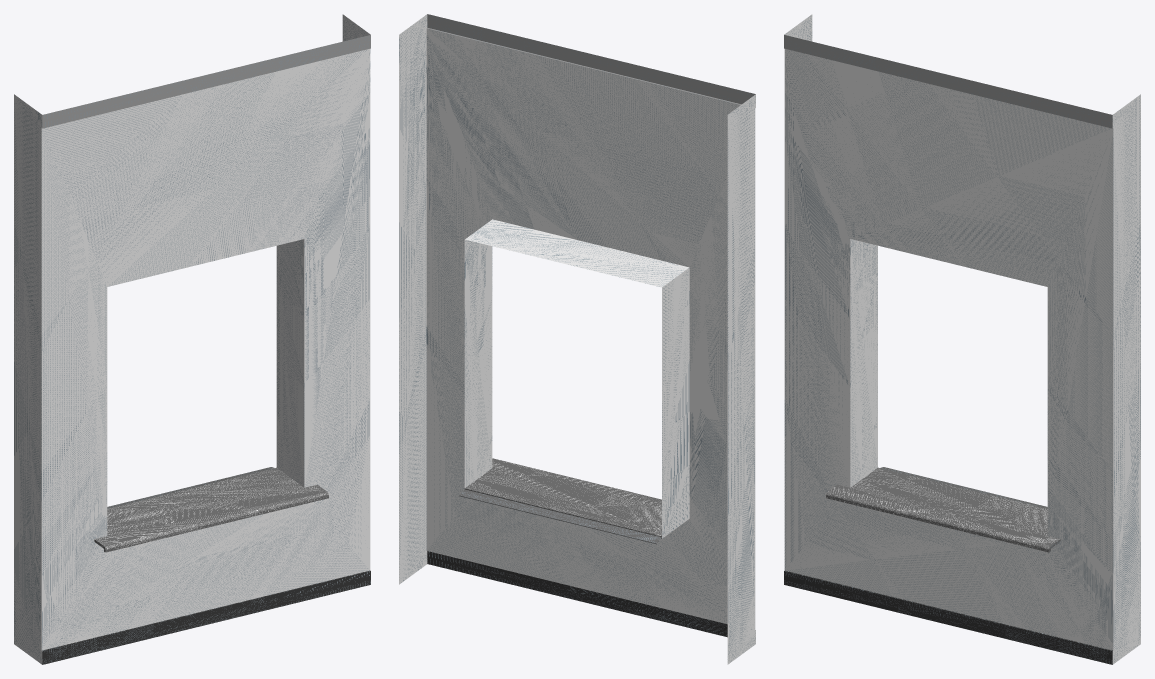
File: WindowBlock_os_plinth_[250x400]_150x181x[080].dae
The picture shows the model from 3 angles, left to right: view 1: azimuth 30°, elevation 25°; view 2: azimuth 150°, elevation 25°; view 3: azimuth 330°, elevation 25°; orthographic projection.
Parts seen in each view (by area): view 1: group_2 (×4), group_1; view 2: group_2 (×4), group_1 (×2); view 3: group_2 (×4), group_1.
Boxes of the visible parts, box(x1,y1,x2,y2) form: group_2 (×4): box(14, 14, 370, 664); group_1: box(94, 467, 328, 552); group_2 (×4): box(399, 14, 755, 664); group_1 (×2): box(459, 458, 661, 543); group_2 (×4): box(784, 14, 1140, 664); group_1: box(826, 467, 1060, 552).
Bounding box in the file's own units: 98.43 × 23.03 × 157.
